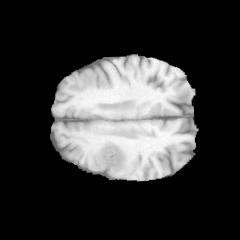glioma: (95, 142, 127, 172)
